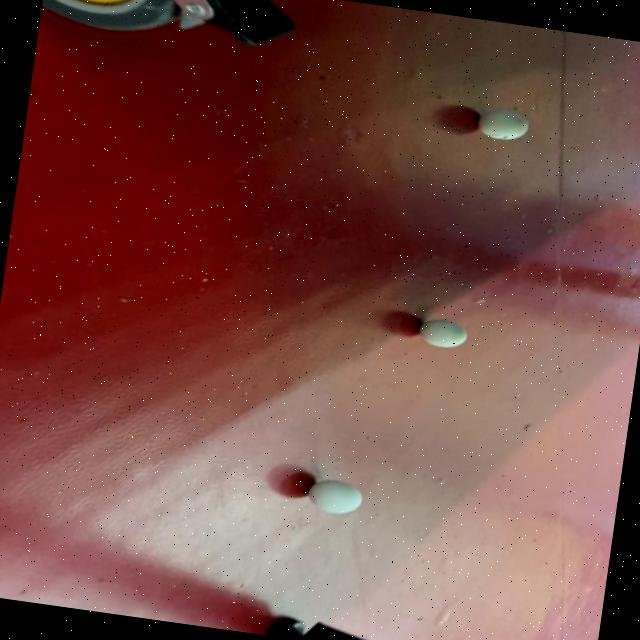ping-pong-ball: (304, 474, 366, 518), (473, 106, 531, 144), (416, 315, 470, 352)
